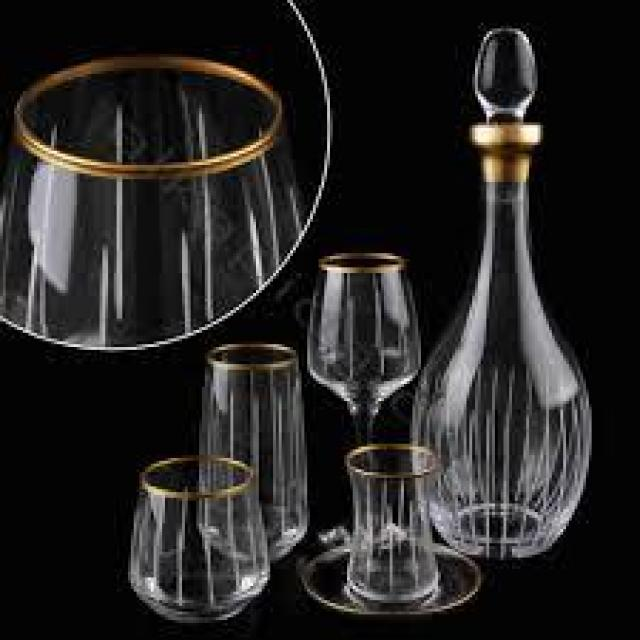non-organic waste: (406, 21, 592, 559), (3, 51, 304, 347), (304, 445, 481, 616), (128, 459, 273, 622)
